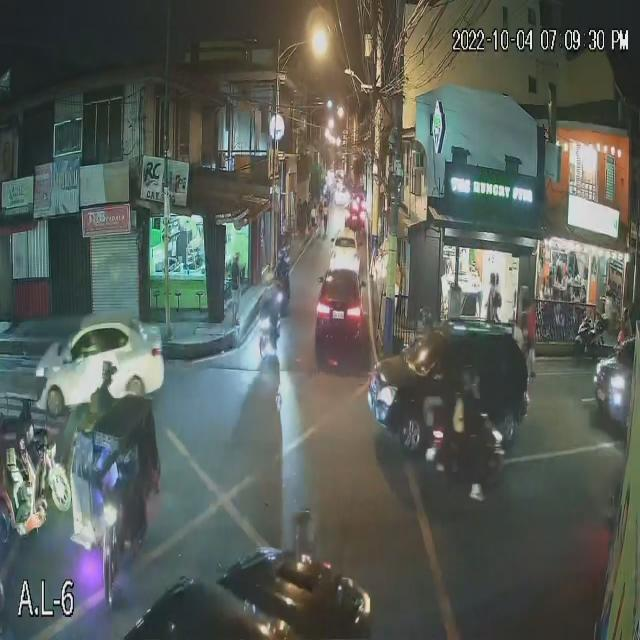helmet: (262, 272, 278, 289)
motorcycle: (428, 416, 509, 475), (252, 307, 286, 361)
rider: (457, 394, 486, 502), (261, 287, 281, 325)
